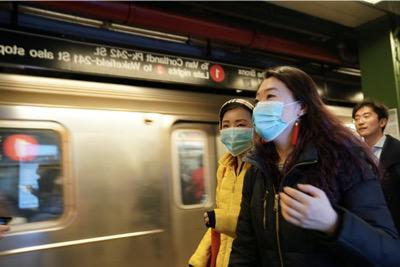with_mask: (251, 86, 295, 143), (218, 118, 254, 159)
without_mask: (353, 110, 378, 136)
